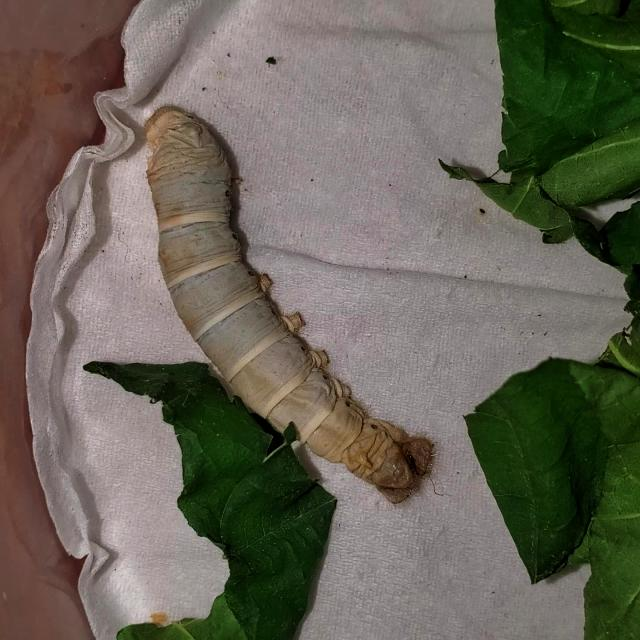Grasserie: (134, 94, 436, 508)
